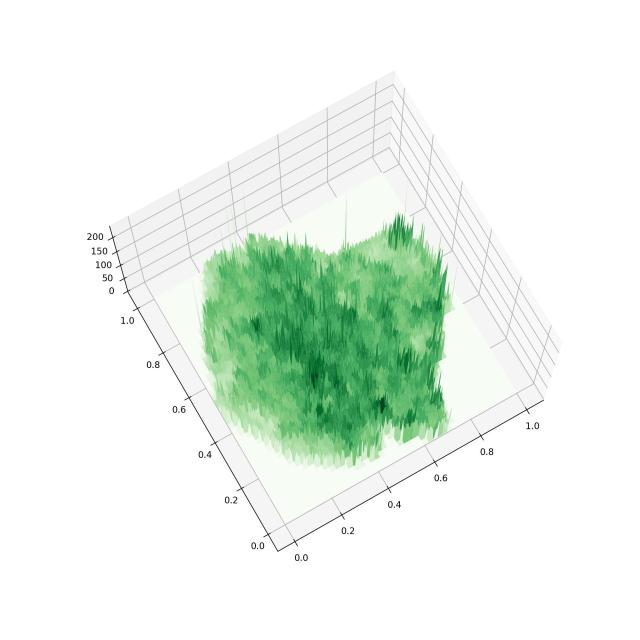fir: (0, 30, 640, 610)
